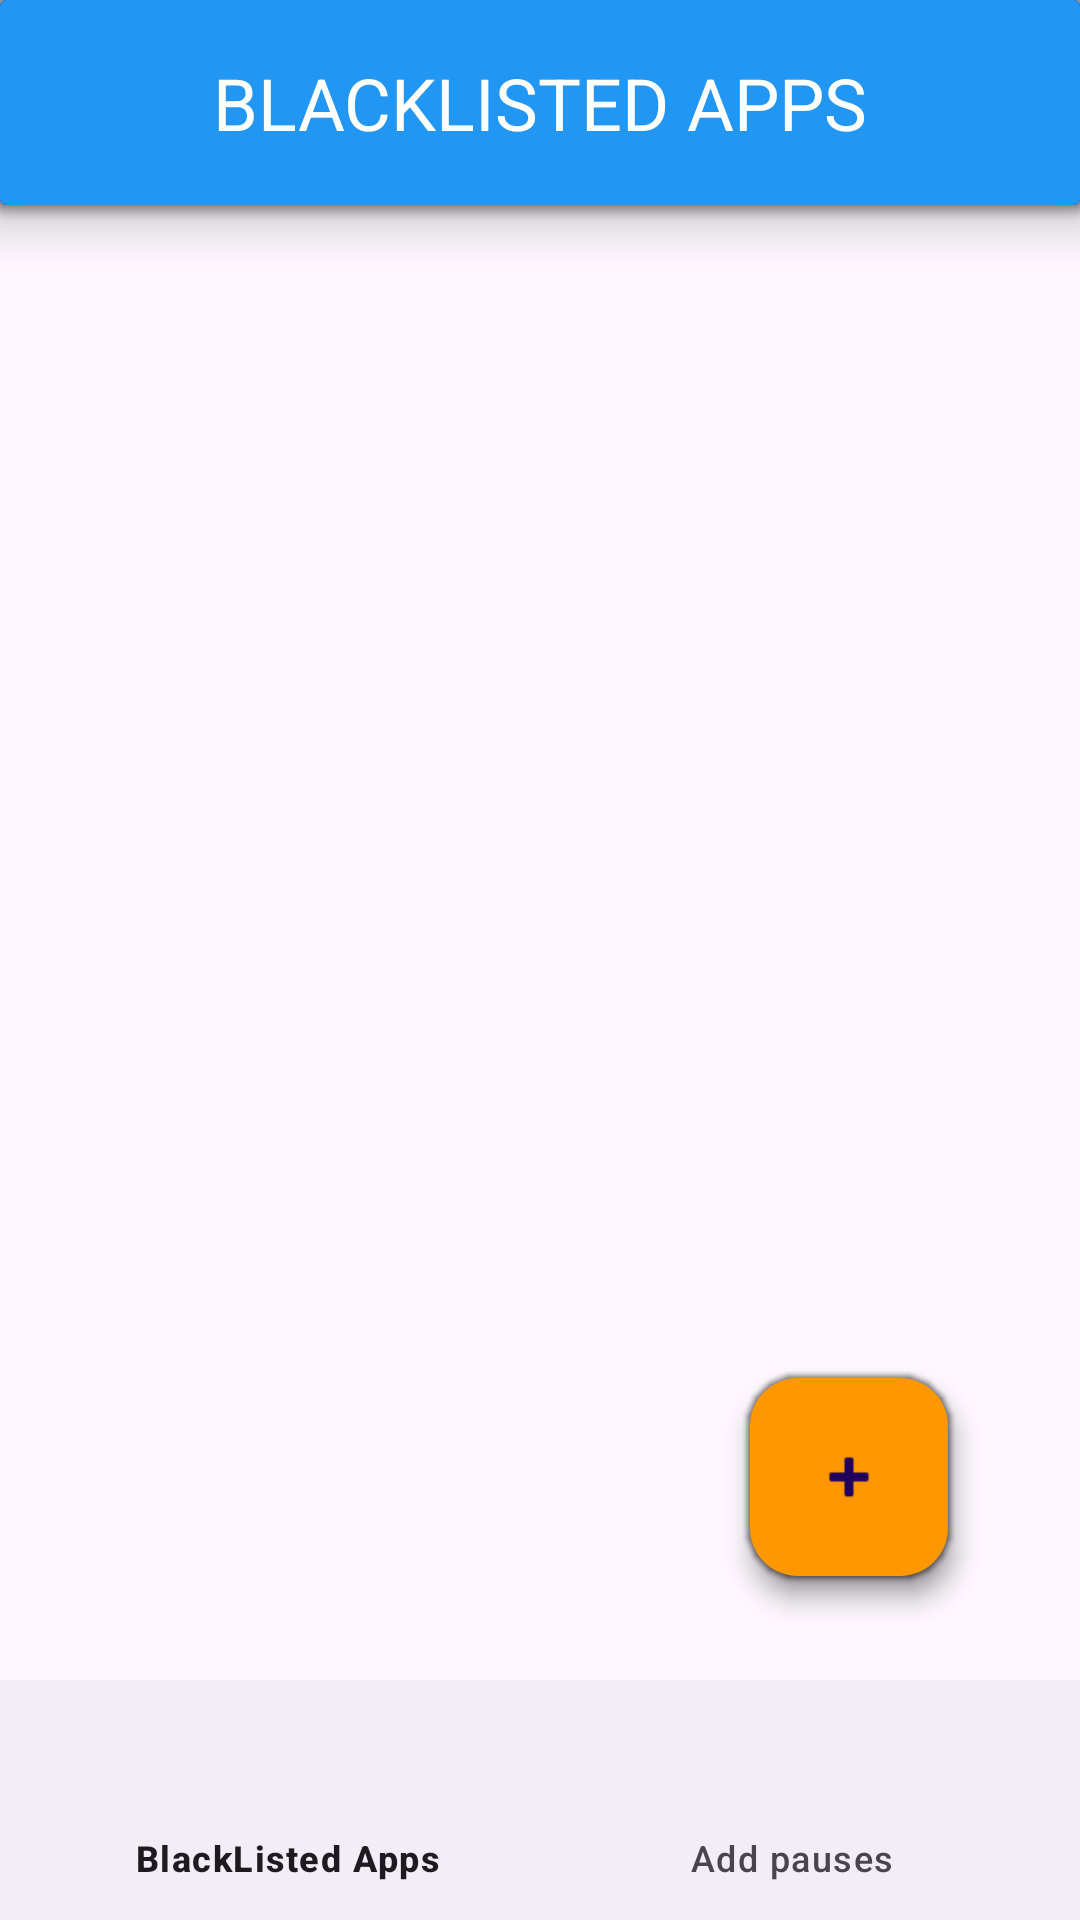

Point at icon controls on the screen. Image size 1080w x 1920h, points as (x,y).
add: (849,1477)
